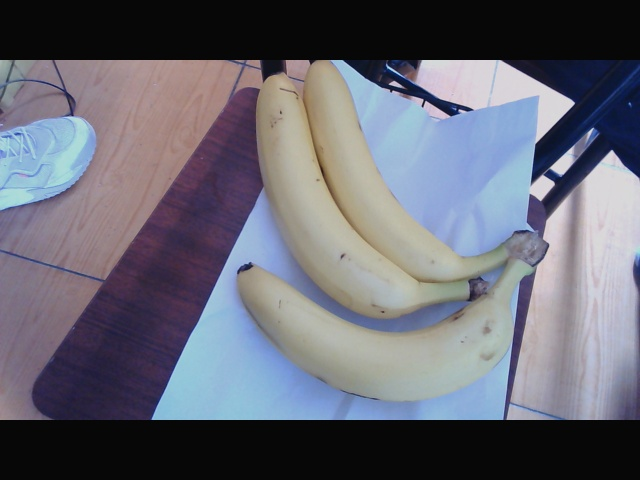banana: (247, 68, 535, 418)
